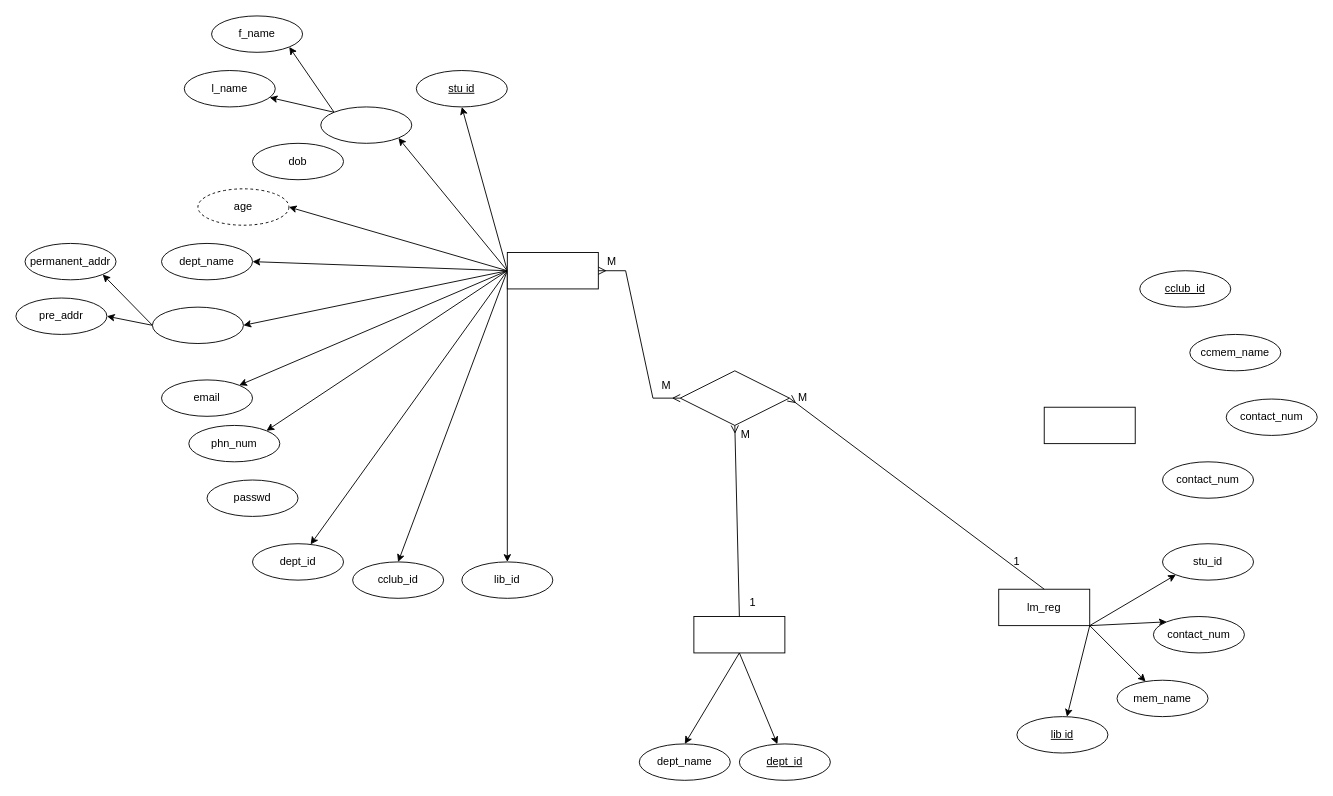
Image size: 1333x796. Some labels were removed from this diagram. The centre of each missing label's shape, as x and y in pixels:
"Address" goes at point (197, 325).
"cclub_reg" goes at point (1089, 425).
"dept_names" goes at point (739, 634).
"in" goes at point (734, 397).
"Name" goes at point (366, 124).
"stu_reg" goes at point (552, 270).
